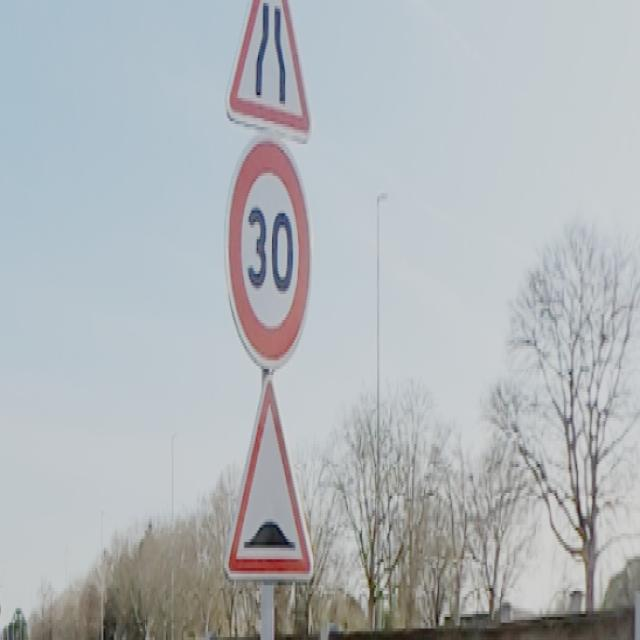speed_30: (224, 131, 313, 370)
